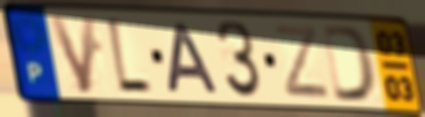3: (214, 19, 265, 102)
A: (166, 21, 222, 97)
D: (320, 23, 380, 105)
L: (102, 14, 155, 98)
V: (45, 13, 98, 97)
Z: (271, 22, 334, 101)
